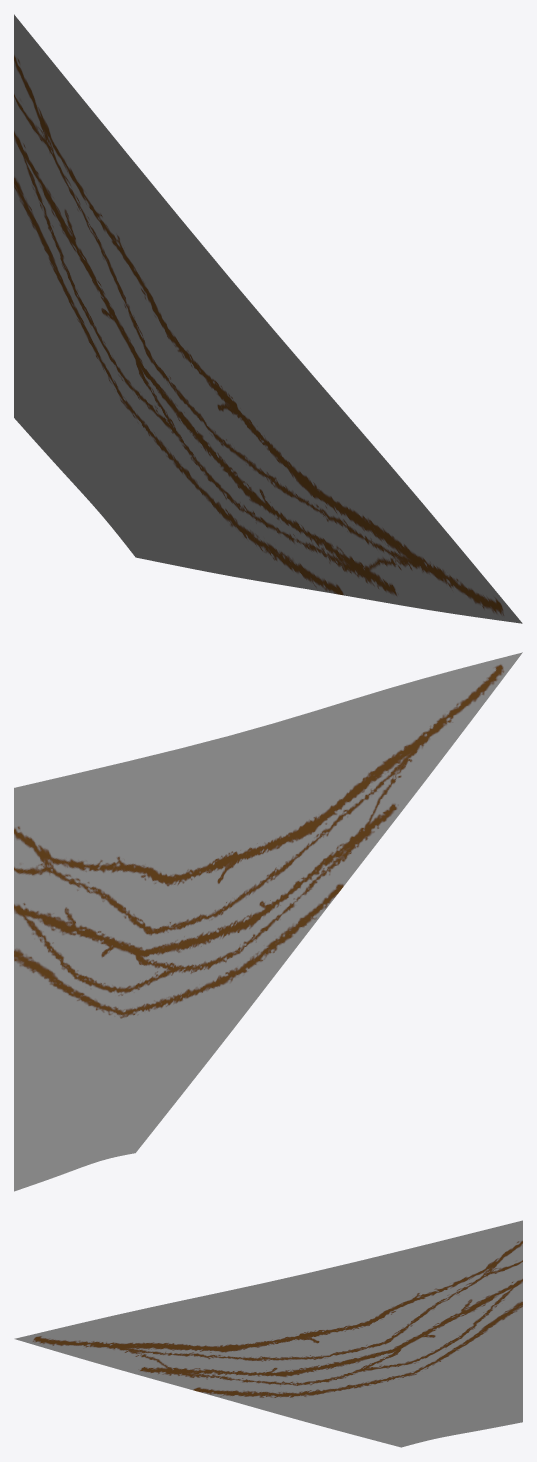
The model's file is SM_Rope_A01.fbx.
3 renders of one model, top to bottom at view 1: azimuth 30°, elevation 25°; view 2: azimuth 150°, elevation 25°; view 3: azimuth 270°, elevation 25°, orthographic. The views are drawn at different scales.
Visible parts, largest first — view 1: SM_Rope_A01_LOD0; view 2: SM_Rope_A01_LOD0; view 3: SM_Rope_A01_LOD0.
Part boxes in pixels (x1,y1,x2,y2): SM_Rope_A01_LOD0: (14,14,522,623); SM_Rope_A01_LOD0: (14,652,522,1191); SM_Rope_A01_LOD0: (14,1220,522,1447).
Size of the model in its own units: 0.000247 by 1963 by 967.
Materials: 1 (1 with a texture image).
